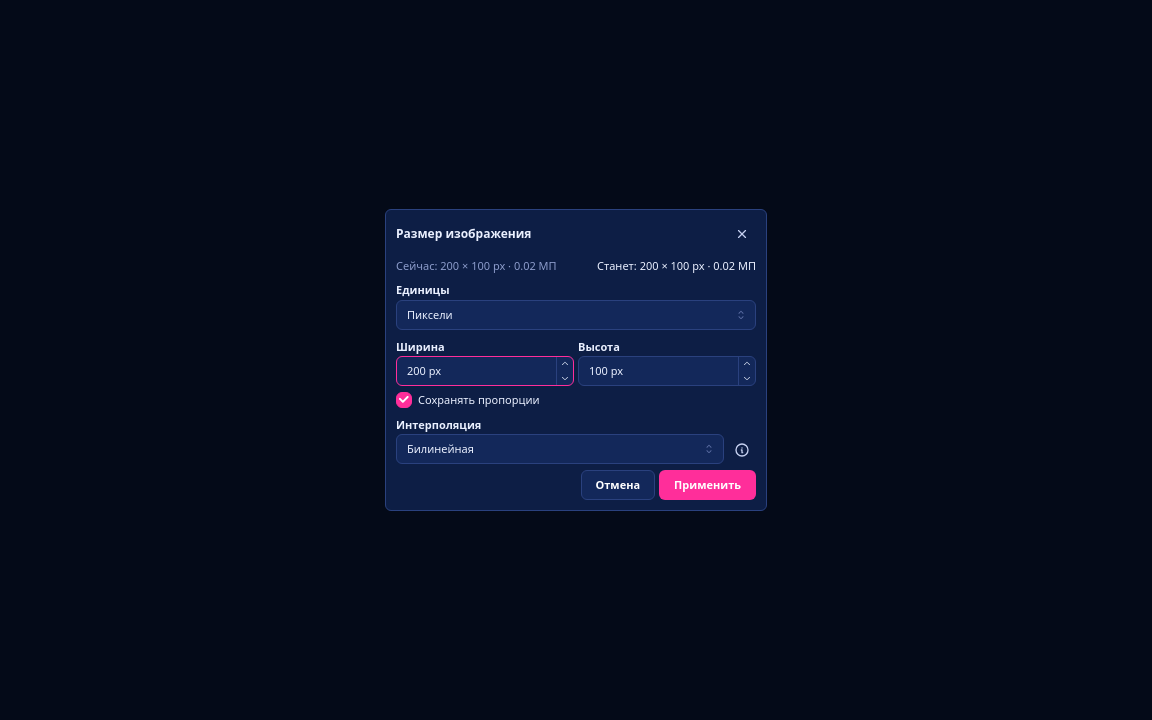
ResizeDialog › validation disables Apply
Clear the field labelled "Ширина". click: (485, 371)
box: [396,356,574,386]
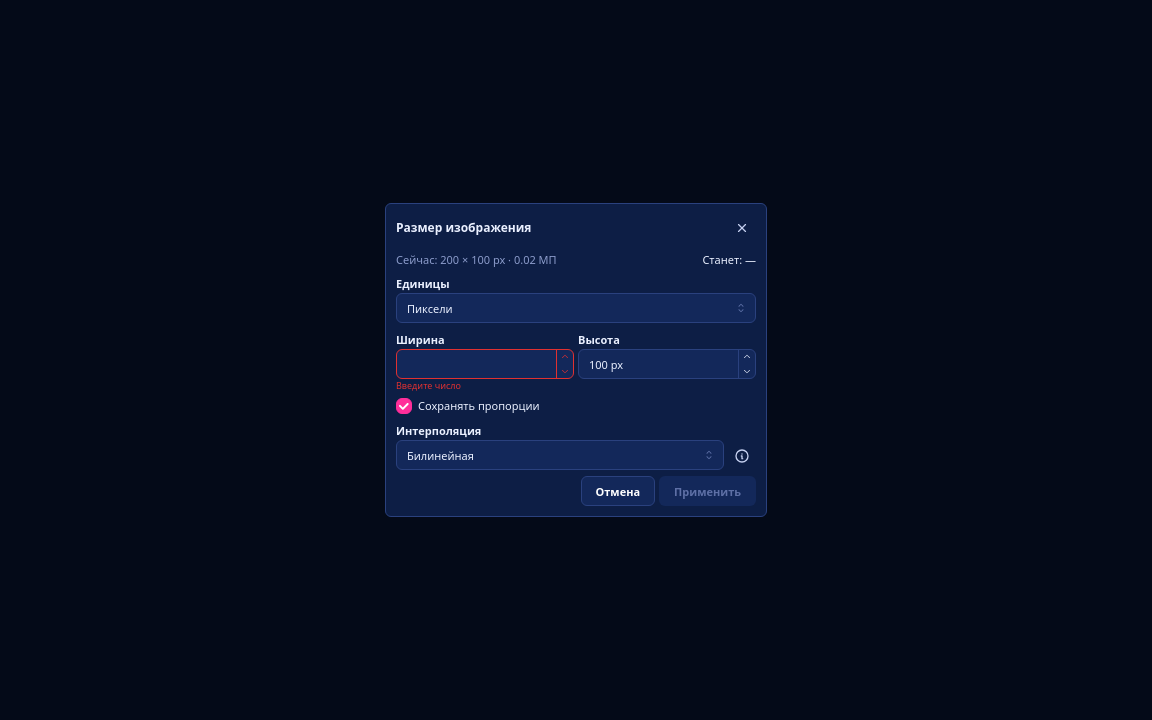
Result: the text "Введите число" is shown at [396,379,461,392]
Result: the button "Применить" is disabled at [659,476,756,506]
Type "99999" into the field labelled "Ширина". click: (485, 364)
box: [396,349,574,379]
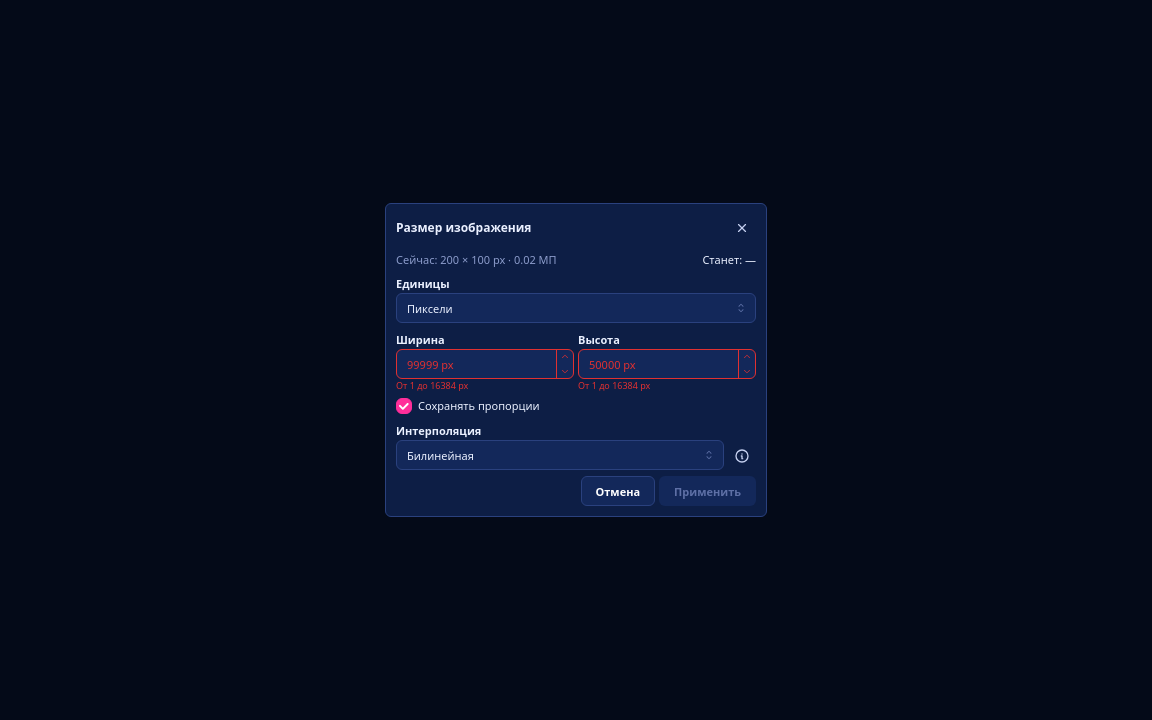
Result: the text "От 1 до 16384 px" below "Ширина" is shown at [396,379,468,392]
